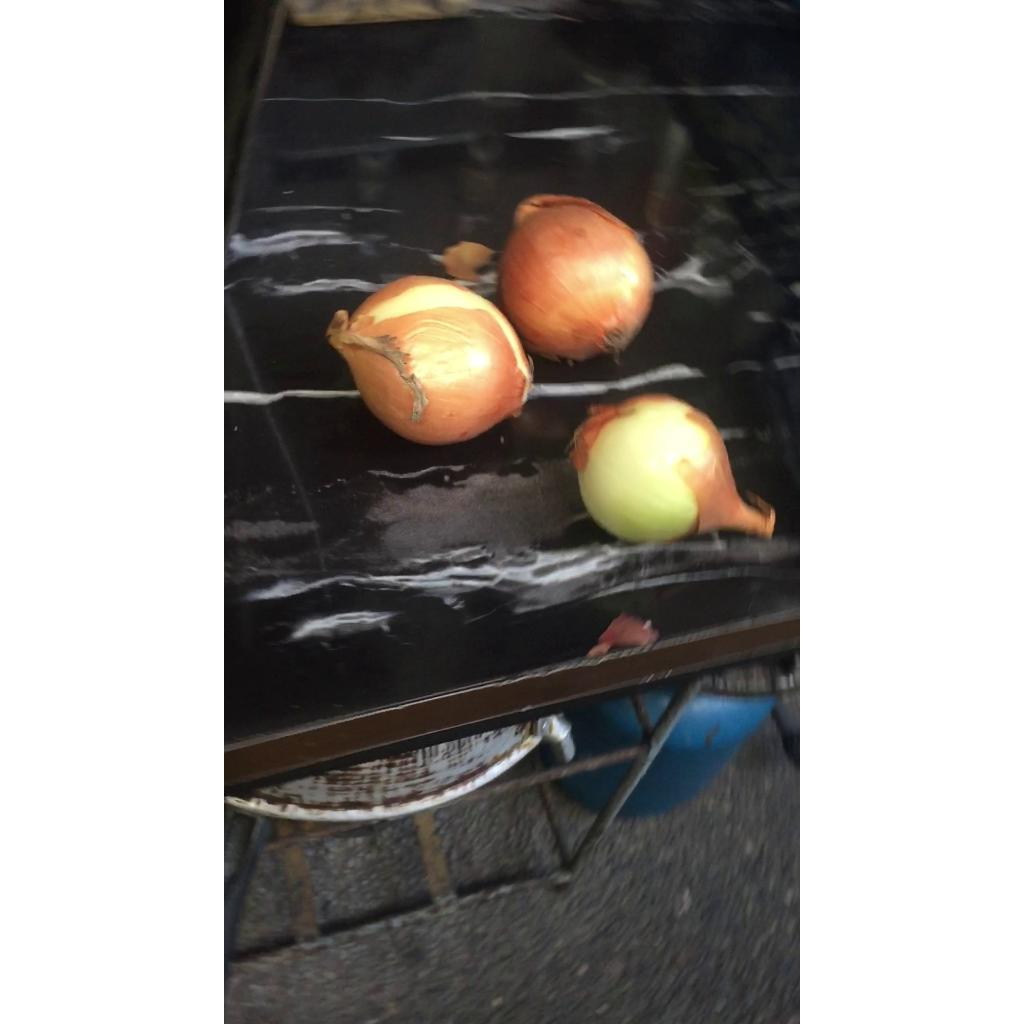Onion: (325, 276, 531, 445), (571, 395, 775, 542), (498, 194, 653, 360)
